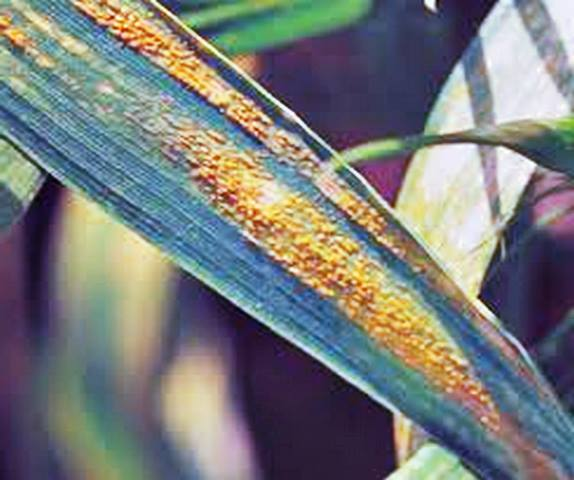Leaf Rust: (169, 104, 485, 407)
